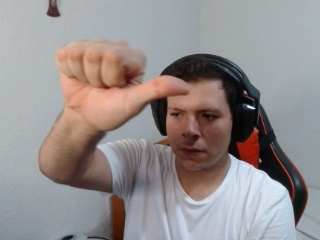Izquierda: (34, 29, 198, 134)
